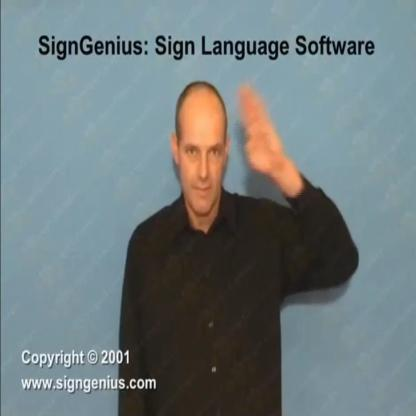Hello: (173, 70, 295, 228)
